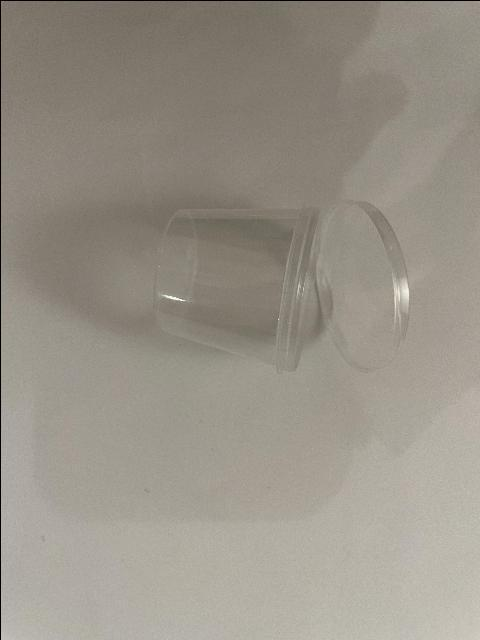plasticcontainer: (153, 198, 411, 376)
